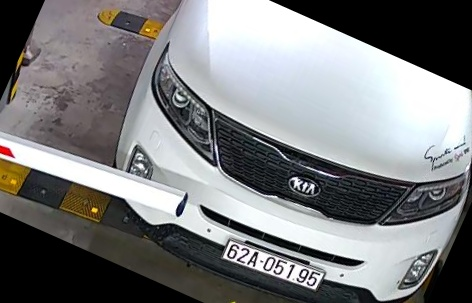plate: (217, 231, 329, 295)
